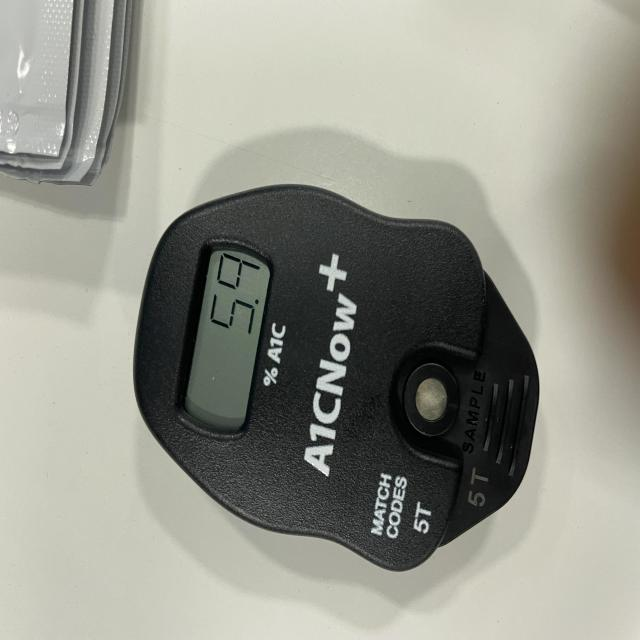hba1c: (132, 185, 540, 576)
